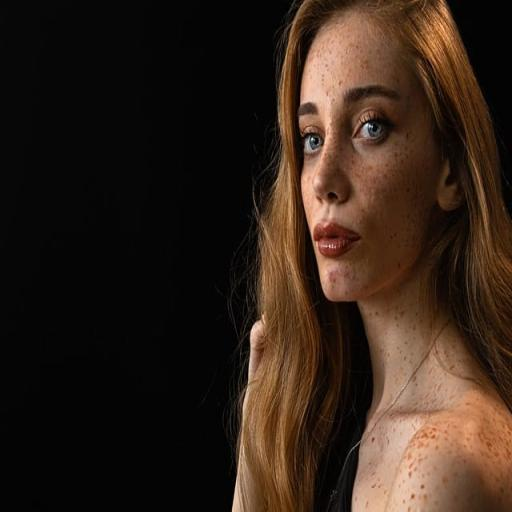lipstick: (313, 222, 359, 257)
